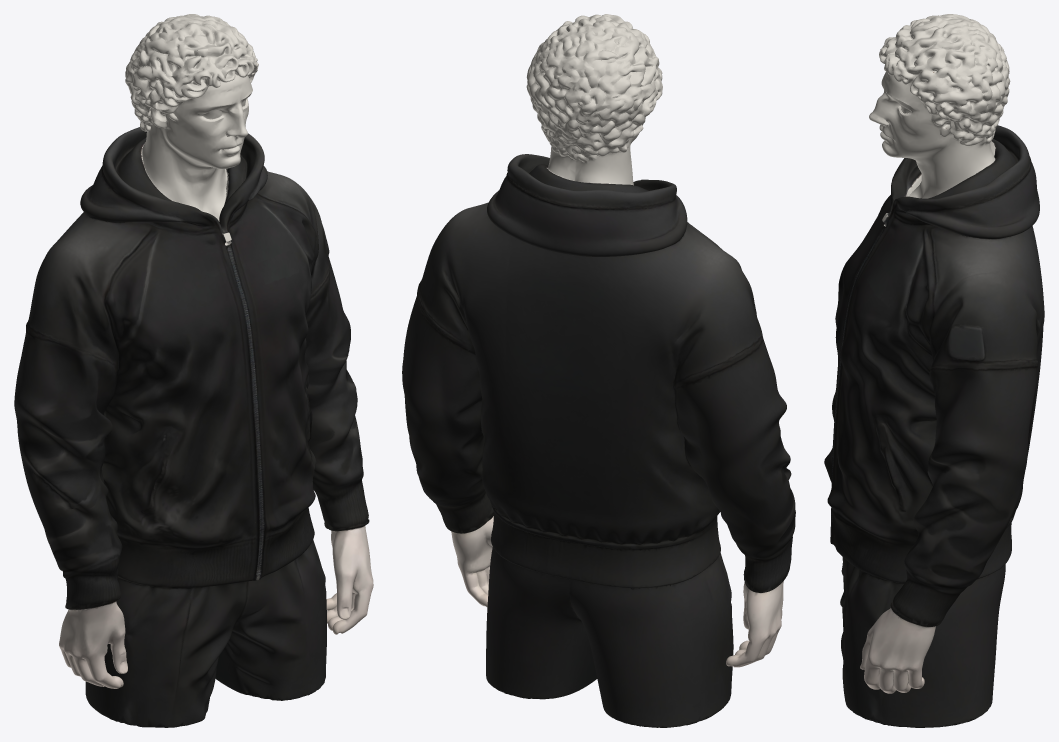
Rendered from hoodie-sculpture-master.glb.
The picture shows the model from 3 angles, left to right: view 1: azimuth 30°, elevation 25°; view 2: azimuth 150°, elevation 25°; view 3: azimuth 270°, elevation 25°; orthographic projection. The views are drawn at different scales.
Parts seen in each view (by area): view 1: model; view 2: model; view 3: model.
Boxes of the visible parts, left/top/right/bottom form: model: left=14, top=14, right=373, bottom=727; model: left=402, top=14, right=795, bottom=727; model: left=824, top=14, right=1044, bottom=727.
Bounding box in the file's own units: 1.03 × 1.9 × 0.5779.
Materials: 2 (1 with a texture image).
